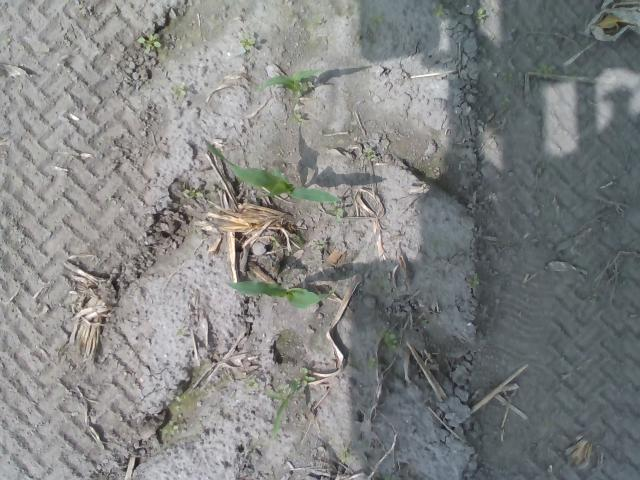Maize: (201, 137, 338, 204), (222, 280, 326, 310), (268, 377, 308, 435), (257, 68, 321, 96)
Weeds: (136, 32, 164, 53), (536, 63, 557, 80), (160, 420, 180, 436), (381, 332, 397, 350), (182, 189, 205, 201), (471, 7, 488, 23), (328, 208, 344, 224), (338, 448, 354, 464), (168, 84, 186, 98), (240, 38, 254, 50), (300, 367, 308, 385), (469, 274, 480, 287), (290, 114, 302, 125), (434, 6, 446, 16), (365, 150, 374, 161), (369, 359, 376, 369)
